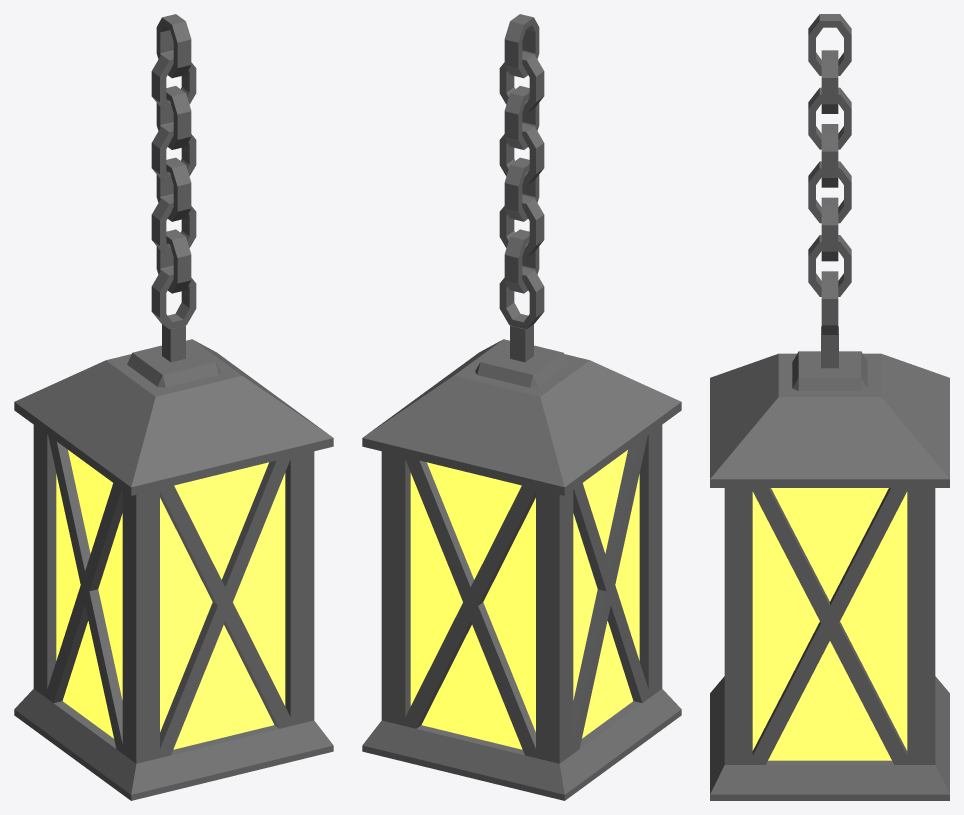
Rendered from Lamp1.fbx.
3 views of the same model, side by side, from view 1: azimuth 30°, elevation 25°; view 2: azimuth 150°, elevation 25°; view 3: azimuth 270°, elevation 25° (orthographic). The views are drawn at different scales.
Parts seen in each view (by area): view 1: Lamp1; view 2: Lamp1; view 3: Lamp1.
Boxes of the visible parts, left/top/right/bottom form: Lamp1: left=14, top=14, right=333, bottom=800; Lamp1: left=362, top=14, right=681, bottom=800; Lamp1: left=710, top=14, right=949, bottom=800.
Bounding box in the file's own units: 19.76 × 66.59 × 19.76.
